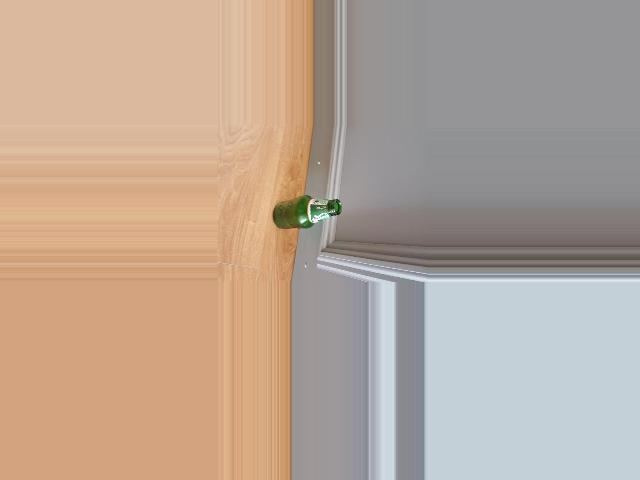beer: (272, 195, 341, 229)
